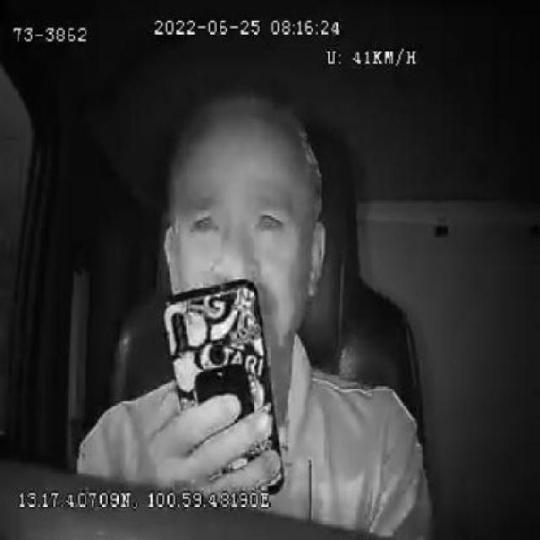phone: (162, 278, 284, 492)
